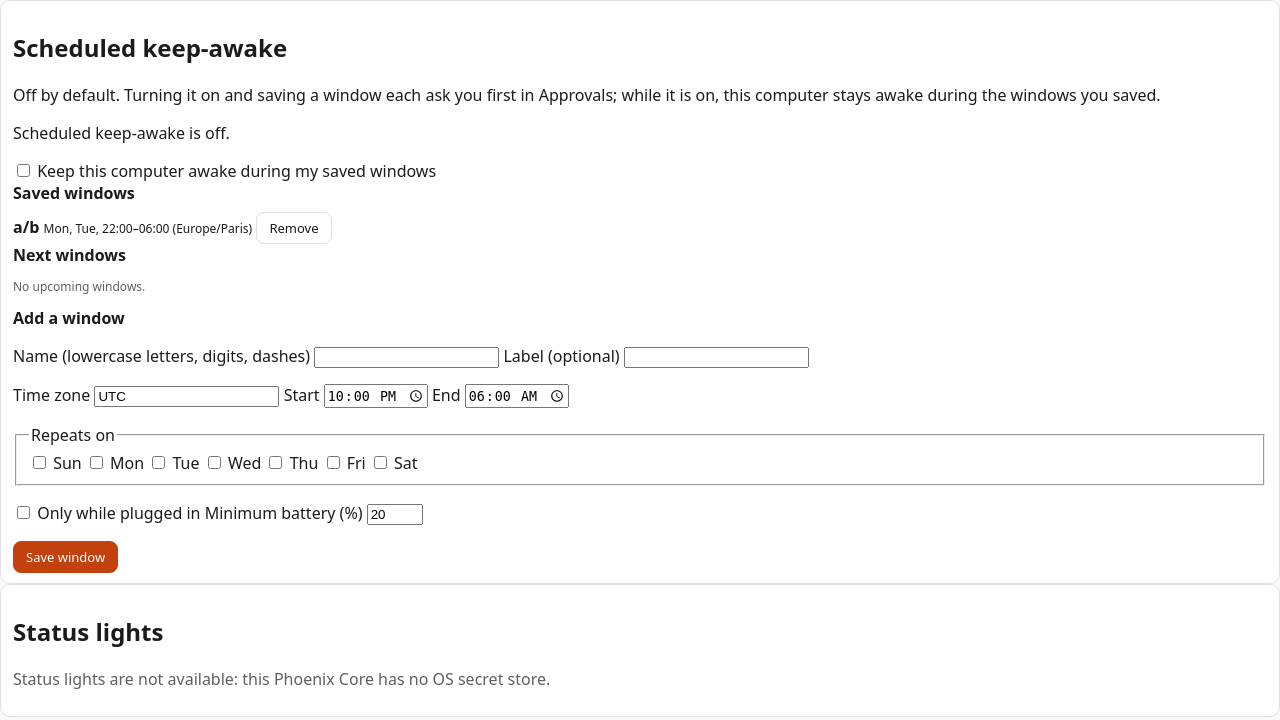
Test: scheduled keep-awake › removes a window by its URL-safe id
Click the button with aria-label "Remove a/b". click: {"x": 294, "y": 228}
box: left=256, top=212, right=332, bottom=244
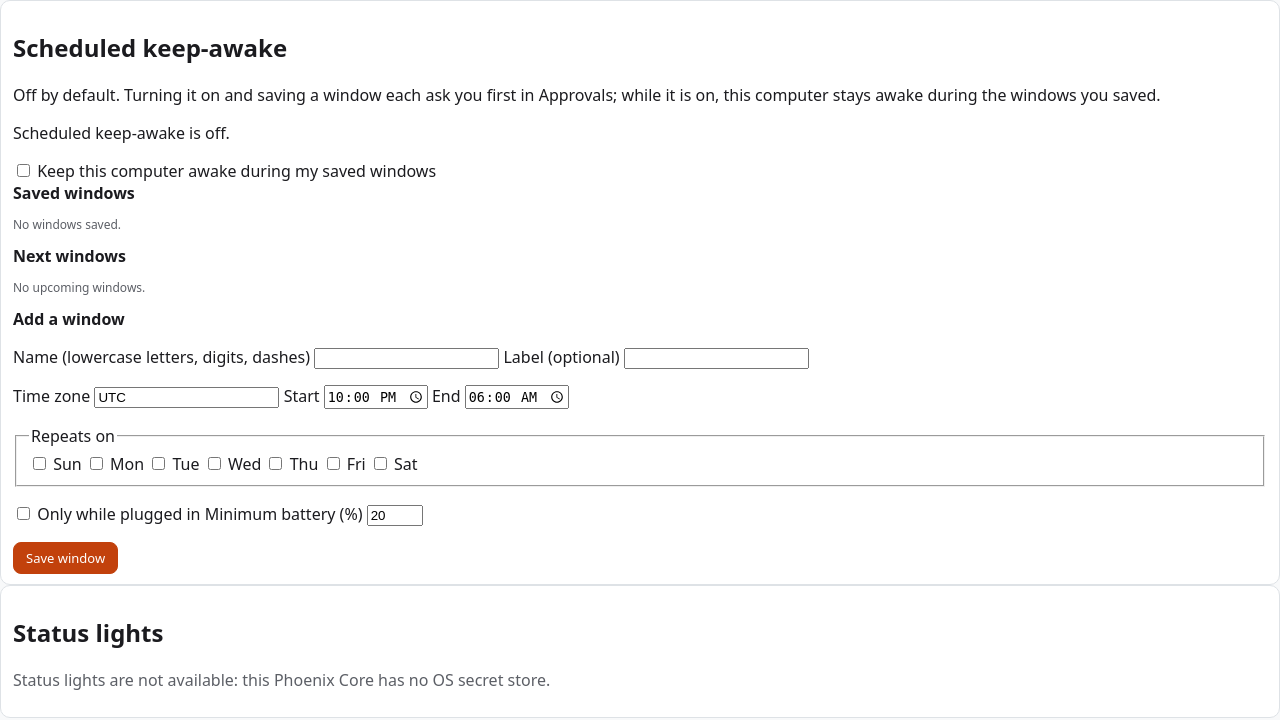
expect the text "No windows saved." is shown: met, box left=13, top=216, right=121, bottom=233
